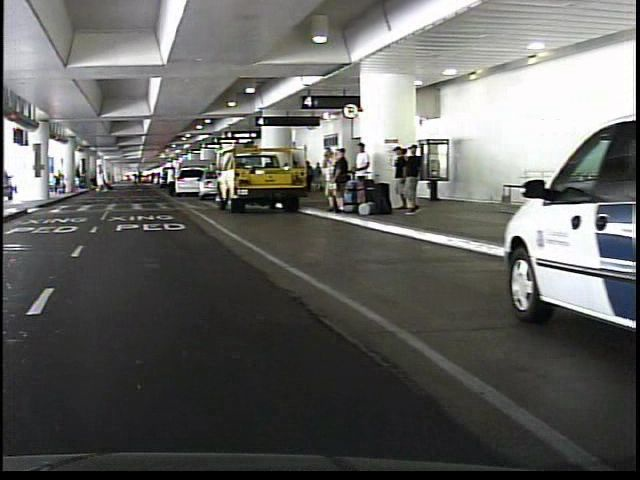person: (400, 144, 419, 217), (315, 144, 334, 210), (88, 162, 104, 196), (161, 165, 171, 196)
